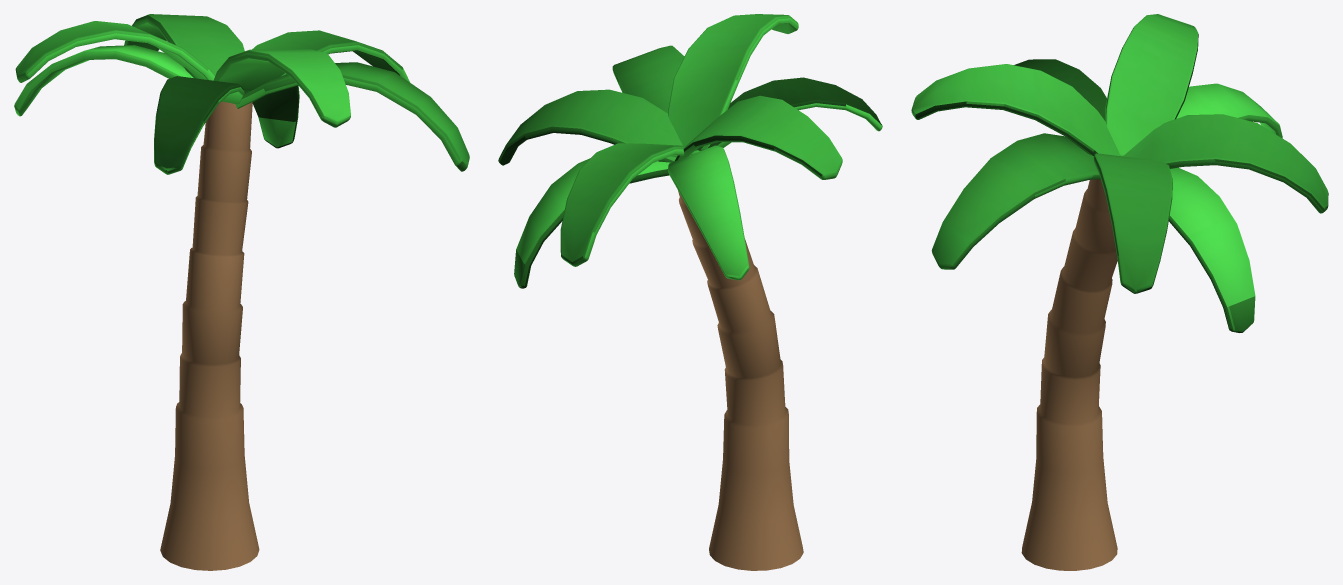
File: palma1.fbx
3 views of the same model, side by side, from view 1: azimuth 30°, elevation 25°; view 2: azimuth 150°, elevation 25°; view 3: azimuth 270°, elevation 25° (orthographic). The views are drawn at different scales.
Visible parts, largest first — view 1: Stablo.003; view 2: Stablo.003; view 3: Stablo.003.
Part boxes in pixels (<box>): Stablo.003: <box>14,14,469,570</box>; Stablo.003: <box>498,14,882,570</box>; Stablo.003: <box>911,14,1328,570</box>.
Size of the model in its own units: 369 by 492 by 372.
Materials: 2 (1 with a texture image).
